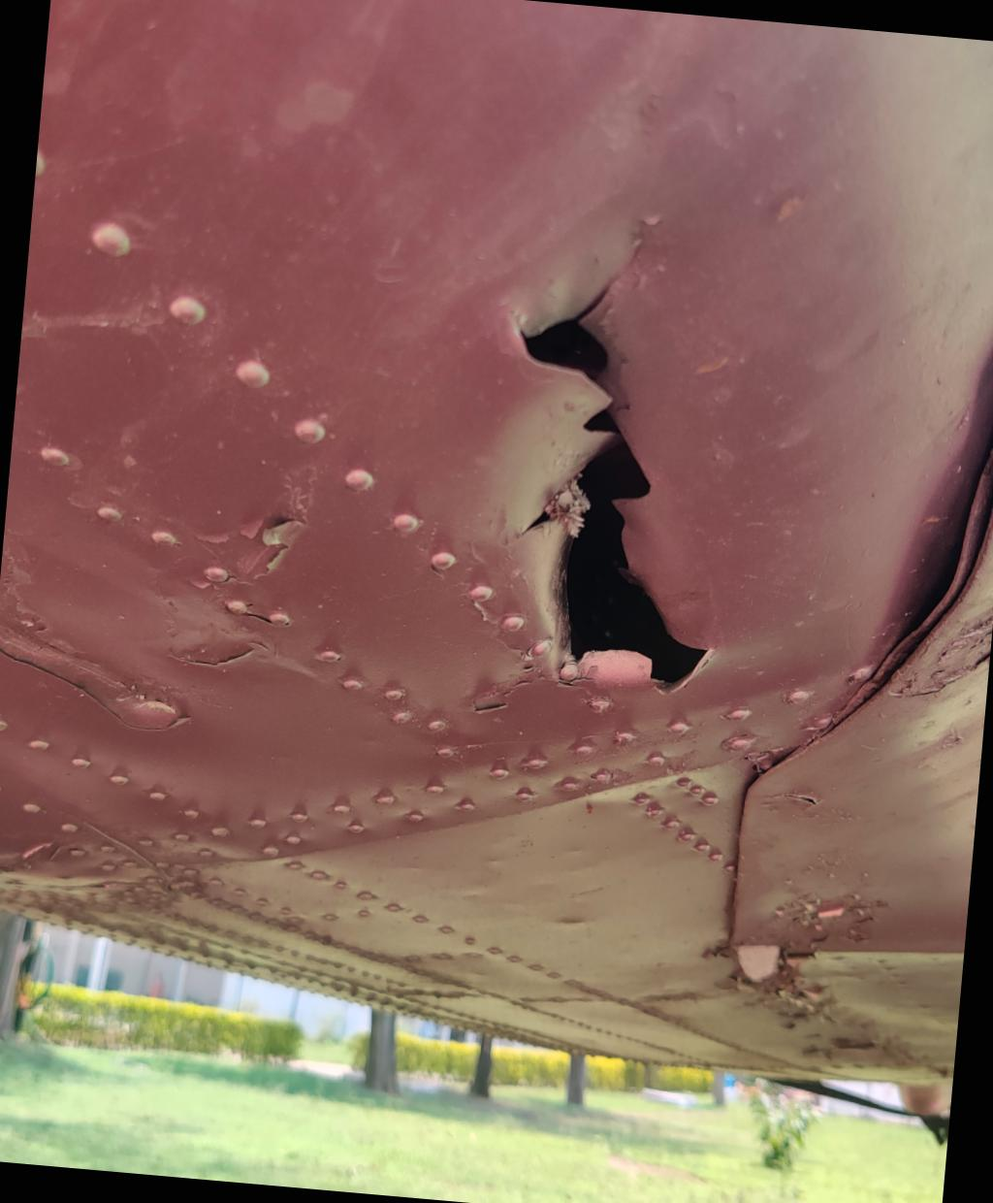corrosion: (203, 486, 320, 634)
crack: (456, 185, 768, 728)
